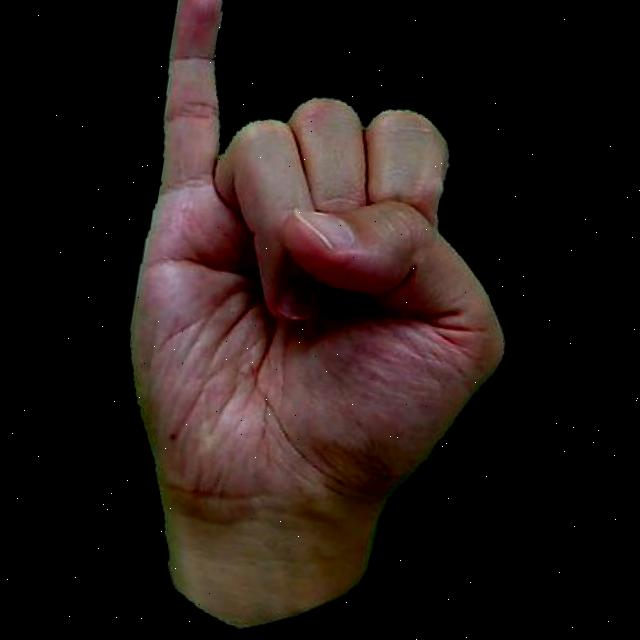i: (78, 0, 558, 640)
